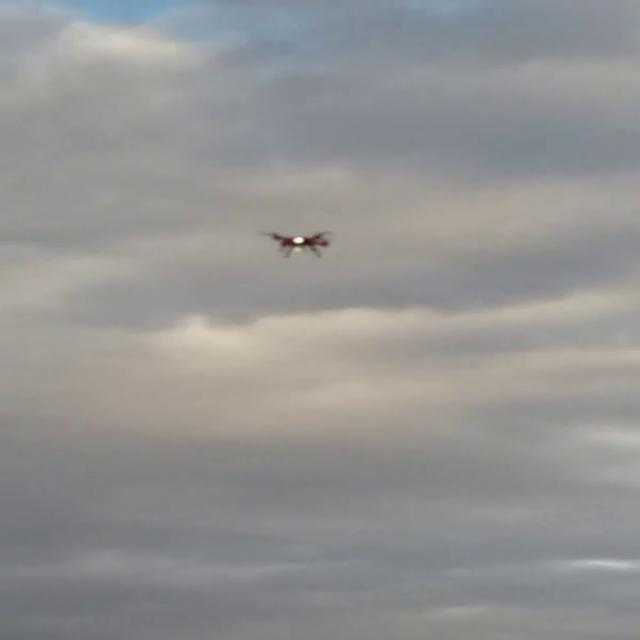drone: (260, 227, 336, 256)
